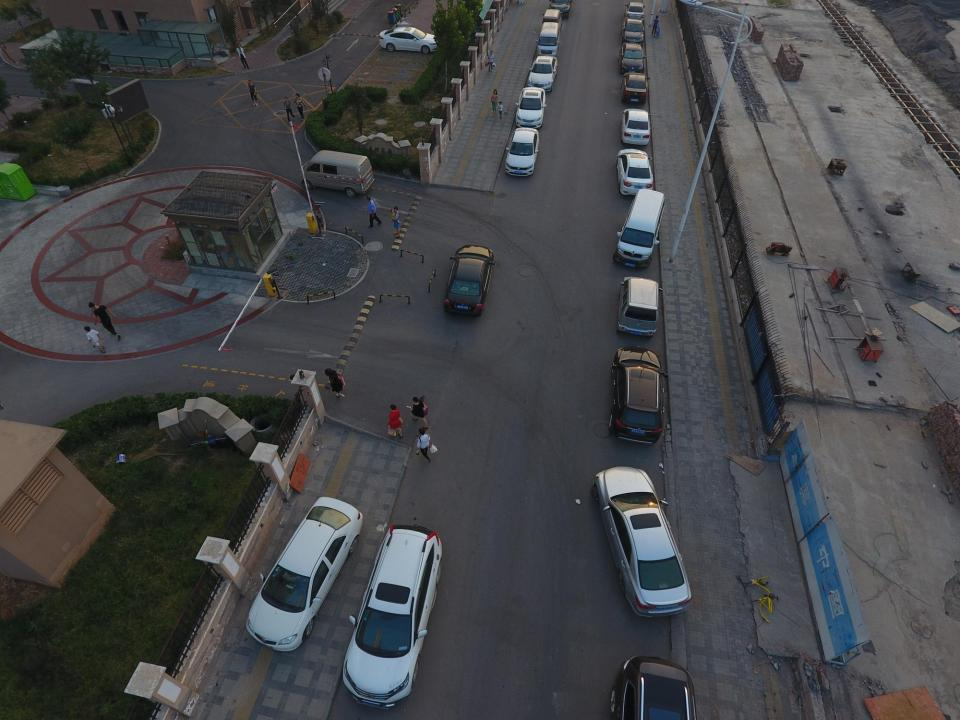car: (341, 524, 442, 710), (247, 497, 363, 650), (591, 466, 692, 619), (605, 655, 694, 720), (610, 346, 669, 443), (442, 244, 495, 318), (617, 276, 663, 336), (380, 26, 445, 54), (616, 149, 654, 194), (505, 127, 539, 176), (515, 86, 547, 130), (621, 108, 652, 144), (528, 56, 558, 91), (621, 72, 650, 105), (618, 42, 646, 76), (620, 18, 645, 48), (548, 0, 572, 19), (625, 2, 645, 24)
van: (612, 189, 666, 267), (299, 150, 374, 198), (535, 22, 560, 56), (542, 8, 562, 31)
